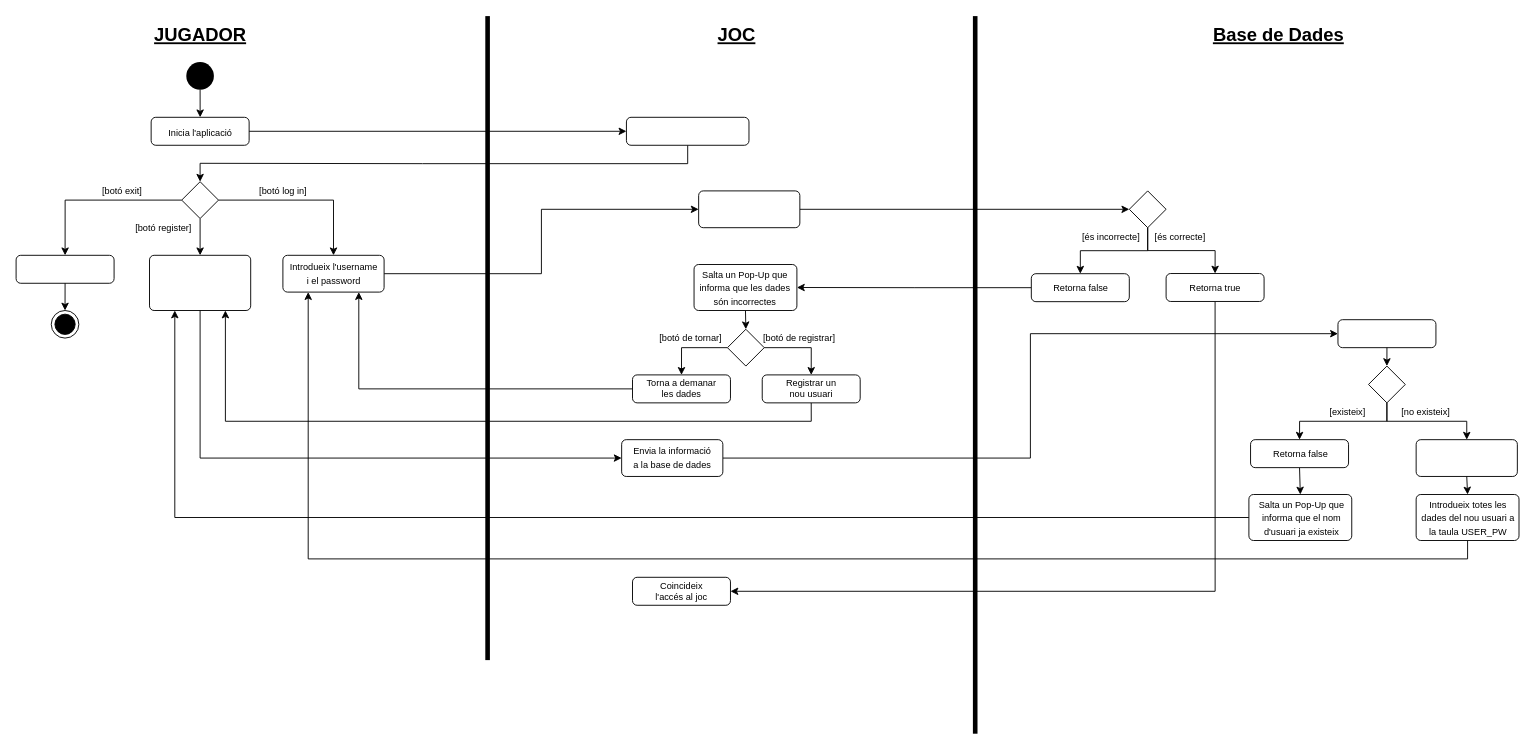
Image size: 1539x749. Some labels were removed from this diagram. The centre of each missing label's shape, as x and y in pixels:
"Carrega la pantalla d'inici" belongs at point 687,130.
"Comproba si el nom d'usuari existeix" belongs at point 1386,333.
"Comprova la informació a la base de dades" belongs at point 749,209.
"Executa una funció que retorna l'id de l'usuari" belongs at point 1466,457.
"Introdueix un username, un password i la data de naixement" belongs at point 200,282.
"Tanca l'aplicació" belongs at point 64,268.
